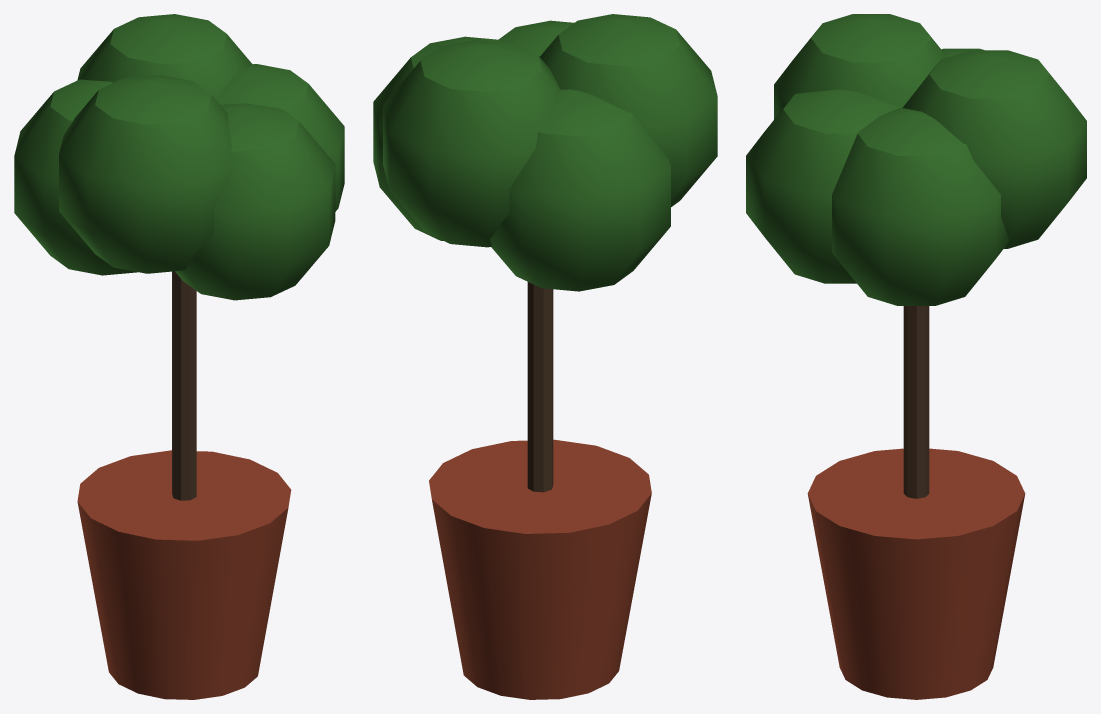
File: furniture.home.plant_pot.glb
3 views of the same model, side by side, from view 1: azimuth 30°, elevation 25°; view 2: azimuth 150°, elevation 25°; view 3: azimuth 270°, elevation 25° (orthographic). The views are drawn at different scales.
Visible parts, largest first — view 1: main__foliage, main__clay_tile, main__bark; view 2: main__foliage, main__clay_tile, main__bark; view 3: main__foliage, main__clay_tile, main__bark.
Boxes of the visible parts, bbox=[...] form: main__foliage: bbox=[14, 14, 344, 300]; main__clay_tile: bbox=[77, 450, 291, 699]; main__bark: bbox=[172, 271, 196, 500]; main__foliage: bbox=[373, 14, 717, 291]; main__clay_tile: bbox=[429, 439, 651, 699]; main__bark: bbox=[527, 282, 553, 492]; main__foliage: bbox=[746, 14, 1086, 305]; main__clay_tile: bbox=[807, 448, 1025, 699]; main__bark: bbox=[903, 306, 929, 498].
Bounding box in the file's own units: 0.5065 × 1.07 × 0.5326.
